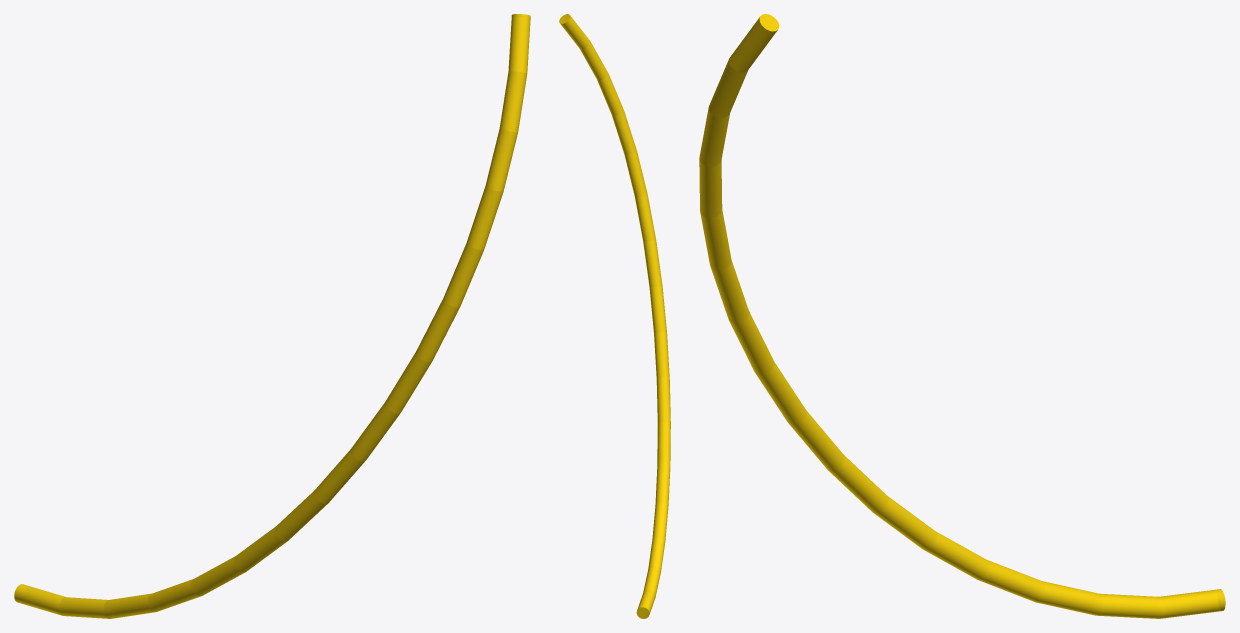
The model's file is Event_420094457_track_41.fbx.
3 views of the same model, side by side, from view 1: azimuth 30°, elevation 25°; view 2: azimuth 150°, elevation 25°; view 3: azimuth 270°, elevation 25° (orthographic). The views are drawn at different scales.
Visible parts, largest first — view 1: Model; view 2: Model; view 3: Model.
Part boxes in pixels (x1,y1,x2,y2): Model: (14,14,530,618); Model: (559,14,670,618); Model: (699,14,1225,618).
Bounding box in the file's own units: 0.783 × 1.53 × 0.9469.
